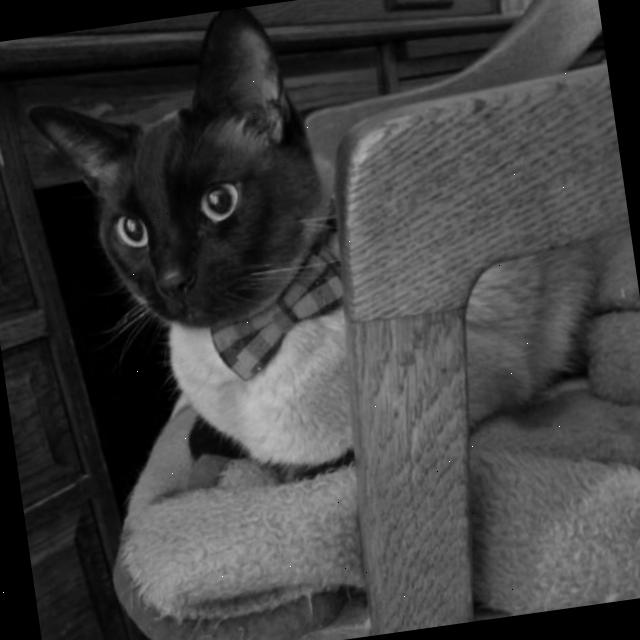siamese_cat: (0, 0, 356, 401)
